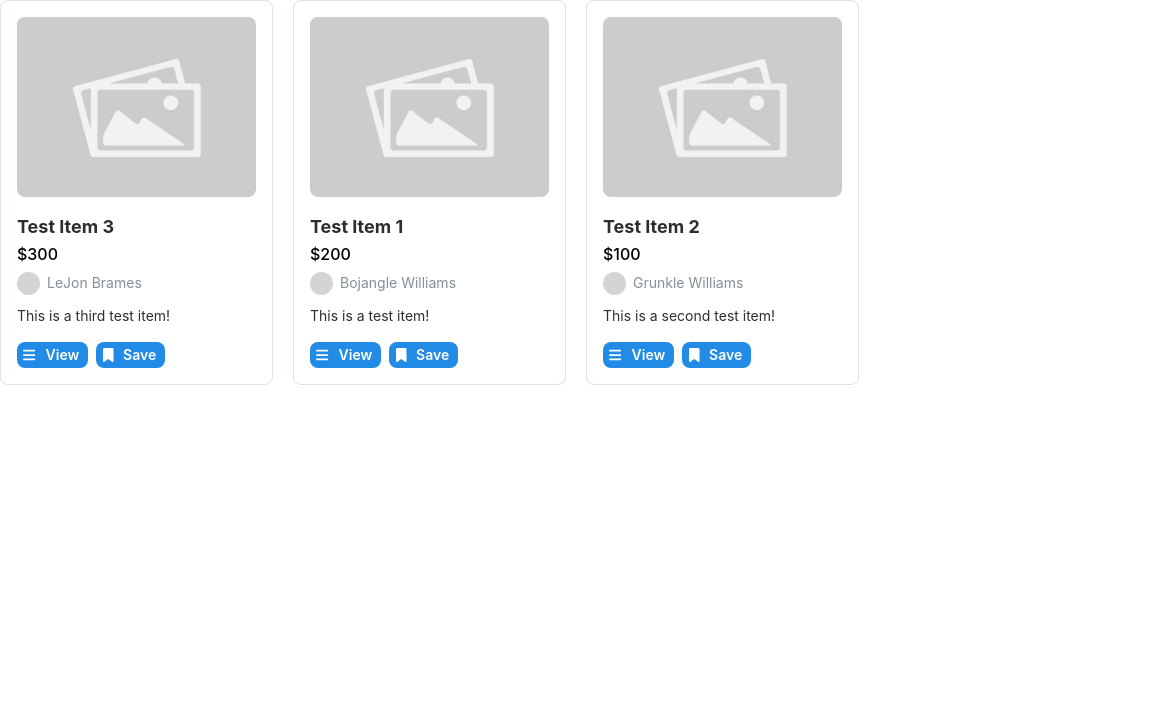
Test: MarketplacePage › Values are properly ordered by price from high to low
Expected: the link "Test Item 3" is shown, [17, 213, 114, 241]
Click the button with test id "view-button" below "This is a third test item!" at (53, 355), box [17, 342, 88, 368]
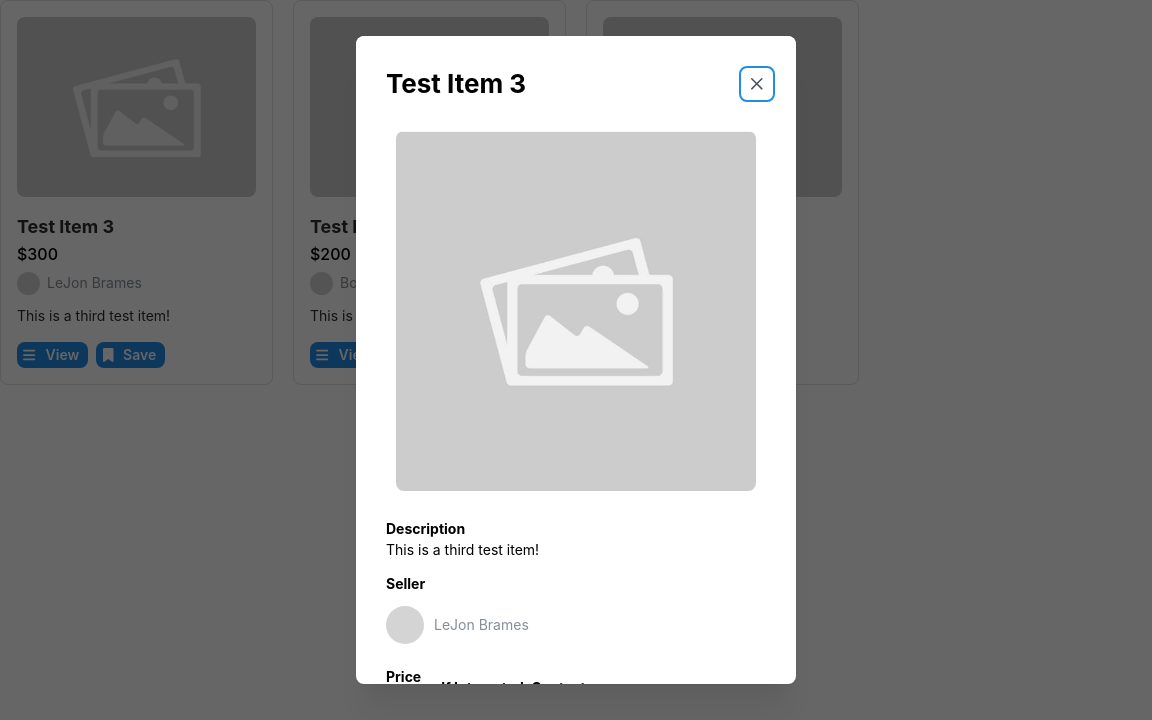
Now the text with test id "listing-modal-title" reads "Test Item 3", box [386, 68, 526, 99]
Now the text with test id "listing-modal-seller" reads "LeJon Brames", box [434, 615, 529, 635]
Now the text with test id "listing-modal-description" reads "This is a third test item!", box [386, 541, 539, 558]
